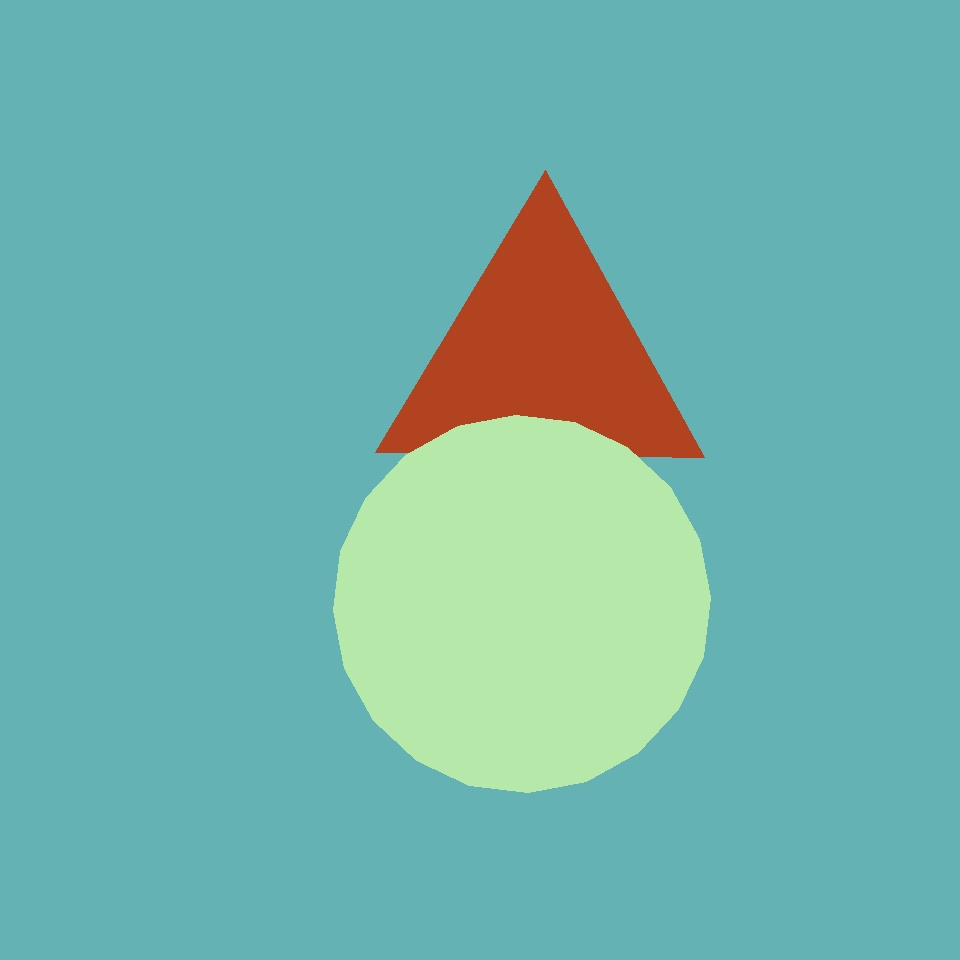circle: (377, 216, 706, 503), (355, 228, 593, 437), (374, 839, 463, 931)
square: (489, 665, 759, 936), (613, 285, 873, 544), (43, 418, 291, 665), (727, 450, 940, 663)
triangle: (333, 416, 710, 792)
